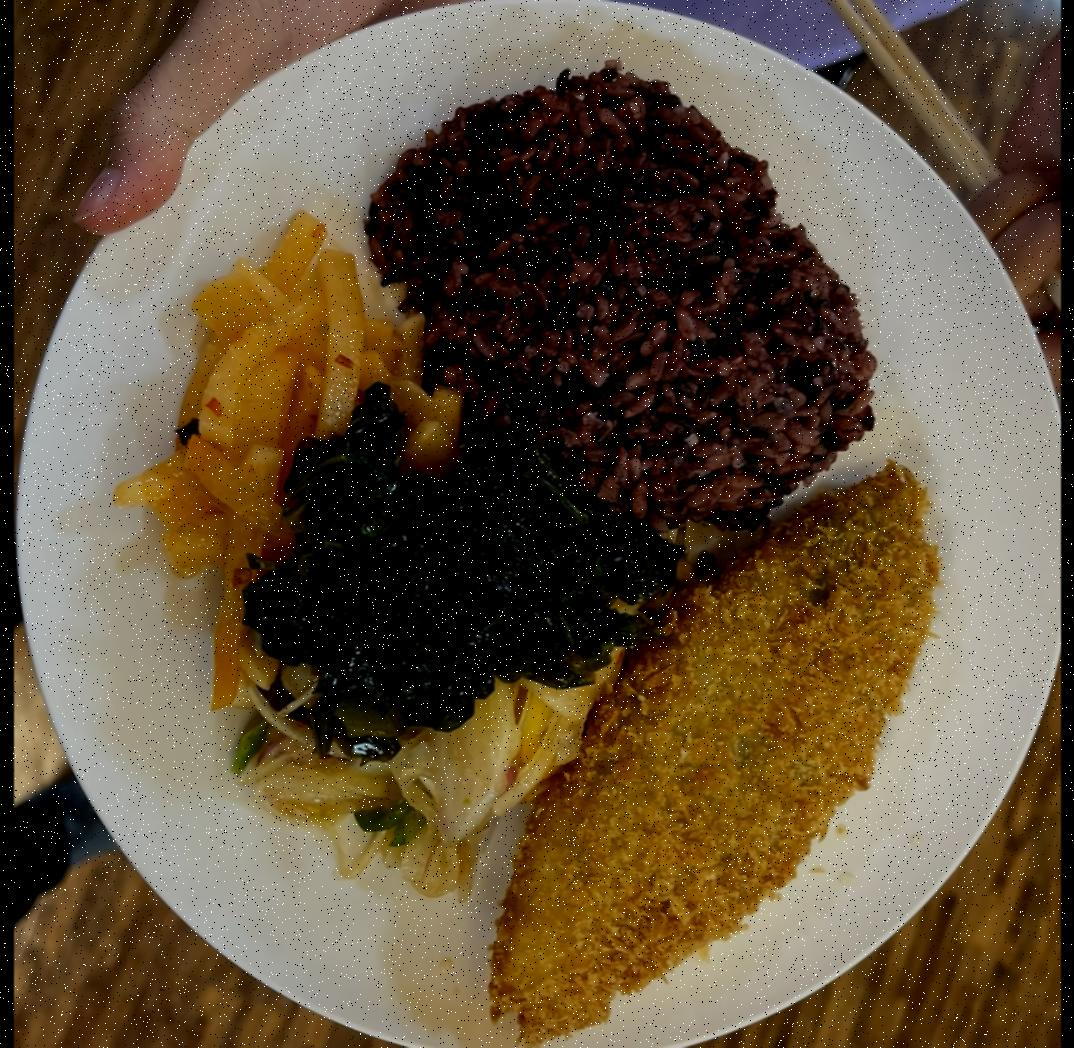big fried chicken leg: (13, 0, 1061, 1048)
braised fish: (366, 64, 891, 526)
braised fish fillet: (136, 212, 460, 704), (250, 414, 661, 748), (246, 608, 643, 892)
braised pork: (484, 463, 948, 1046)
